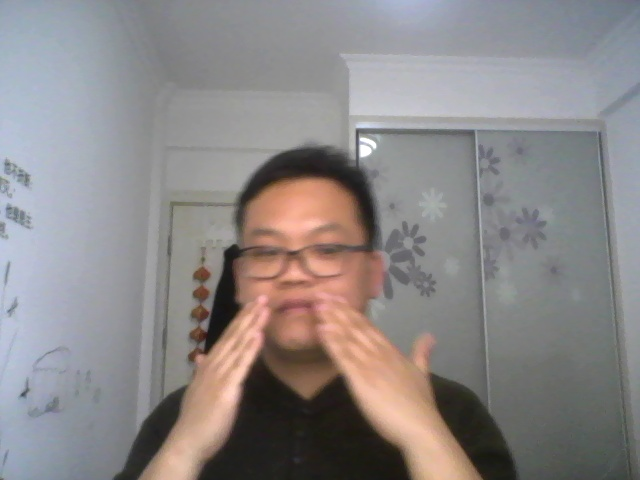Thank You: (153, 287, 459, 454)
